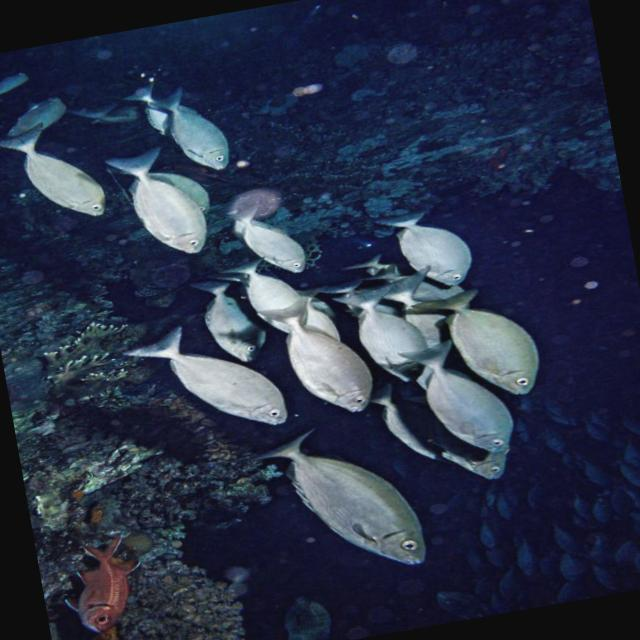Sokar Baligi: (213, 402, 451, 606), (0, 107, 121, 239)
